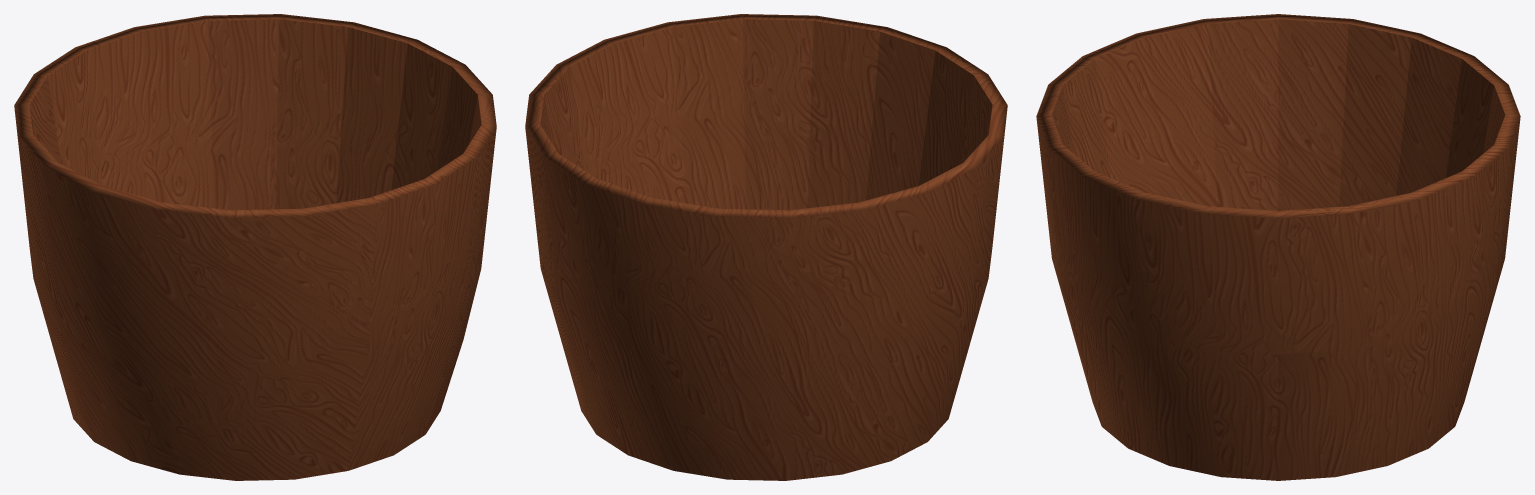
File: FRM0510026.fbx
The picture shows the model from 3 angles, left to right: view 1: azimuth 30°, elevation 25°; view 2: azimuth 150°, elevation 25°; view 3: azimuth 270°, elevation 25°; orthographic projection.
Parts seen in each view (by area): view 1: smFRM0510026; view 2: smFRM0510026; view 3: smFRM0510026.
Boxes of the visible parts, x1,y1,x2,y2 form: smFRM0510026: (14,14,496,480); smFRM0510026: (525,14,1007,480); smFRM0510026: (1036,14,1520,480).
Bounding box in the file's own units: 70.57 × 46.21 × 70.57.
1 material, 1 textured.
